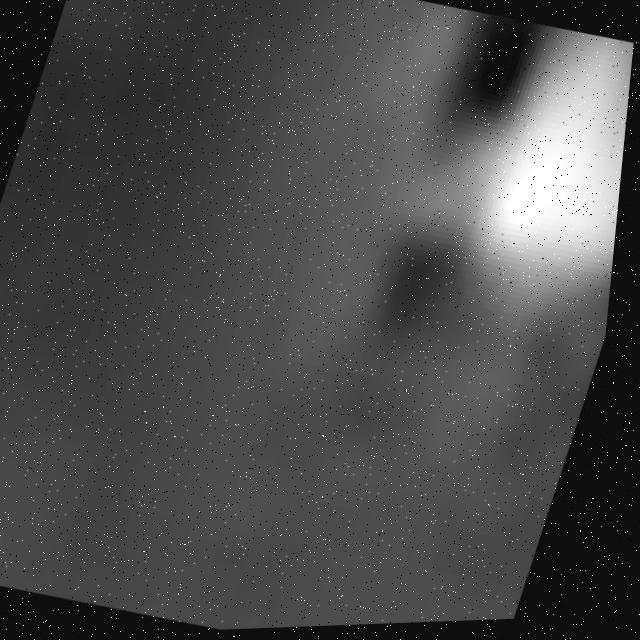person: (376, 16, 638, 476)
